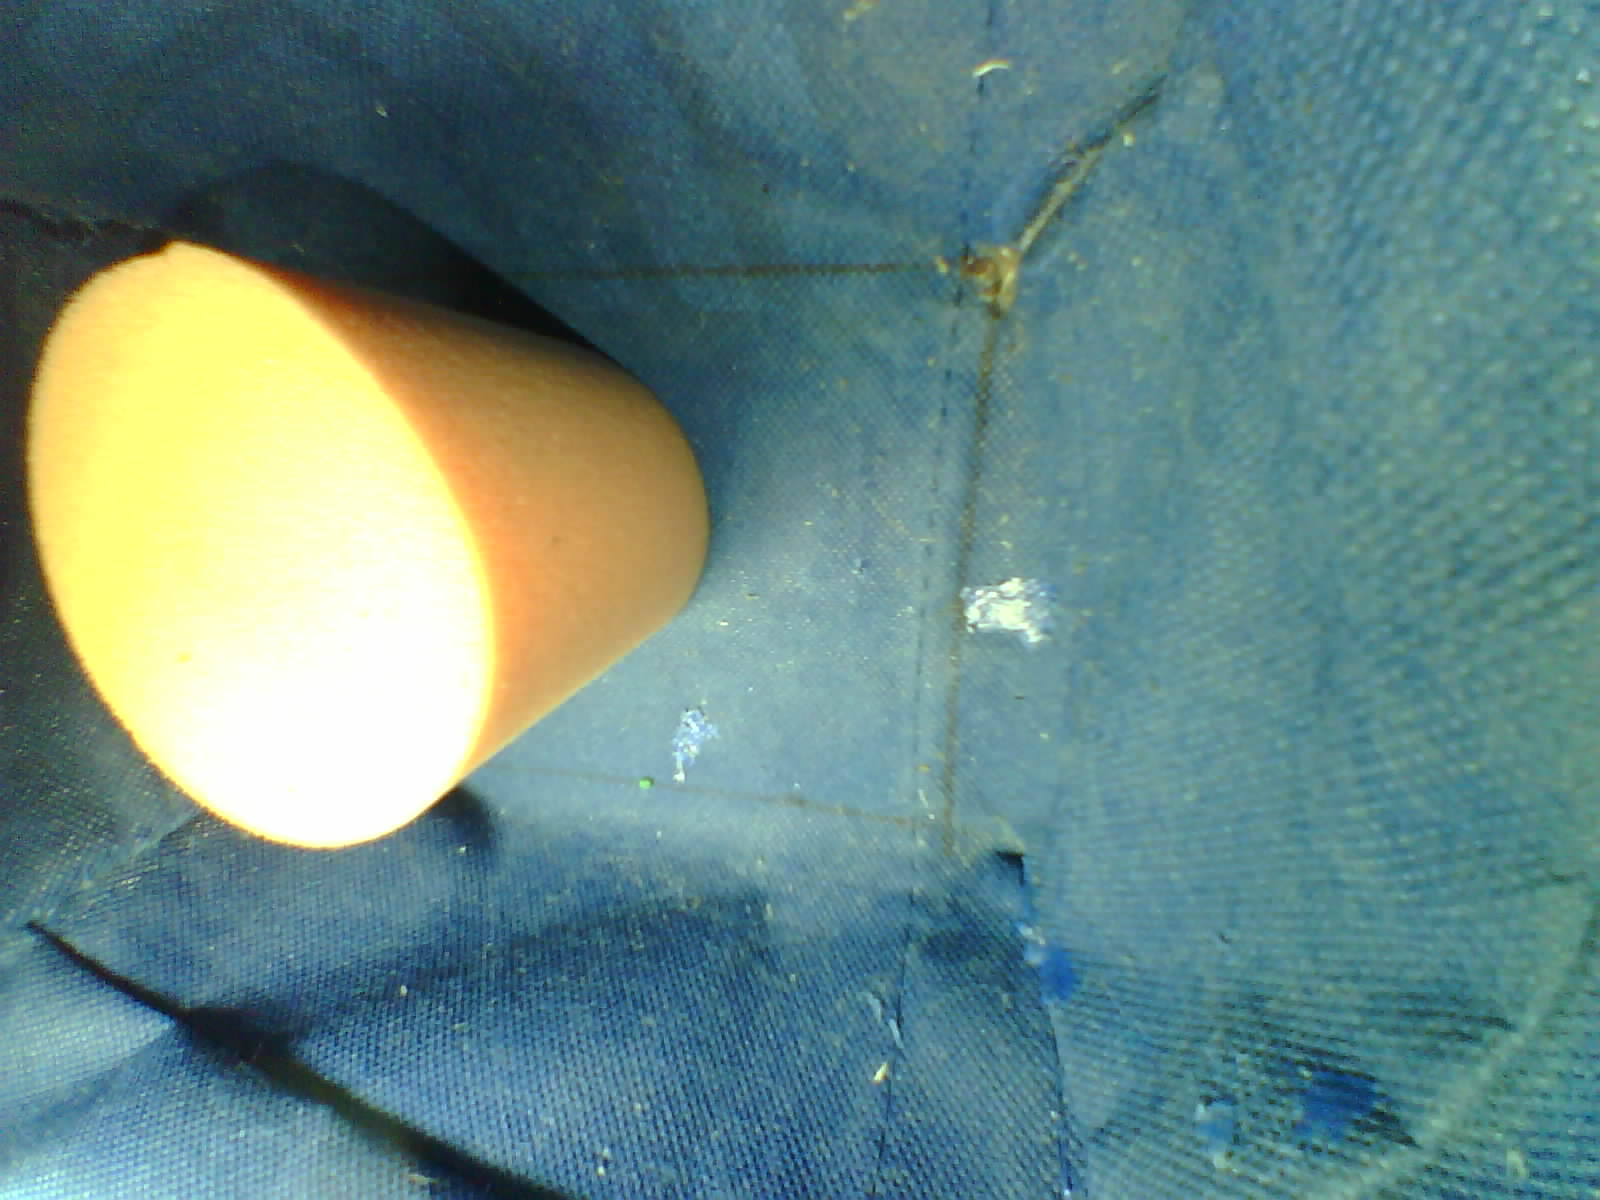cylinder-soft: (8, 221, 726, 881)
